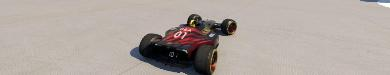Car: (138, 13, 237, 74)
grass: (0, 0, 389, 74)
